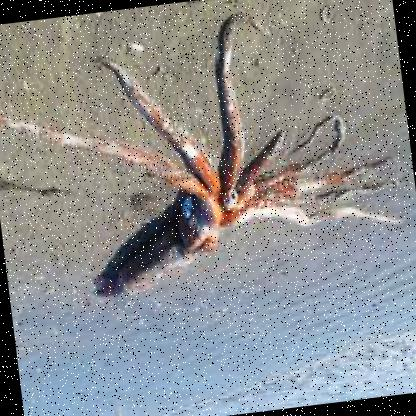colossal_squid: (29, 23, 408, 322)
